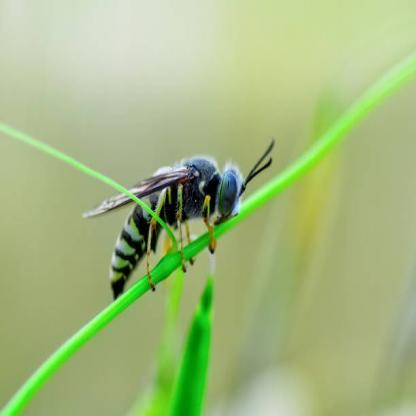sawfly: (83, 136, 285, 302)
